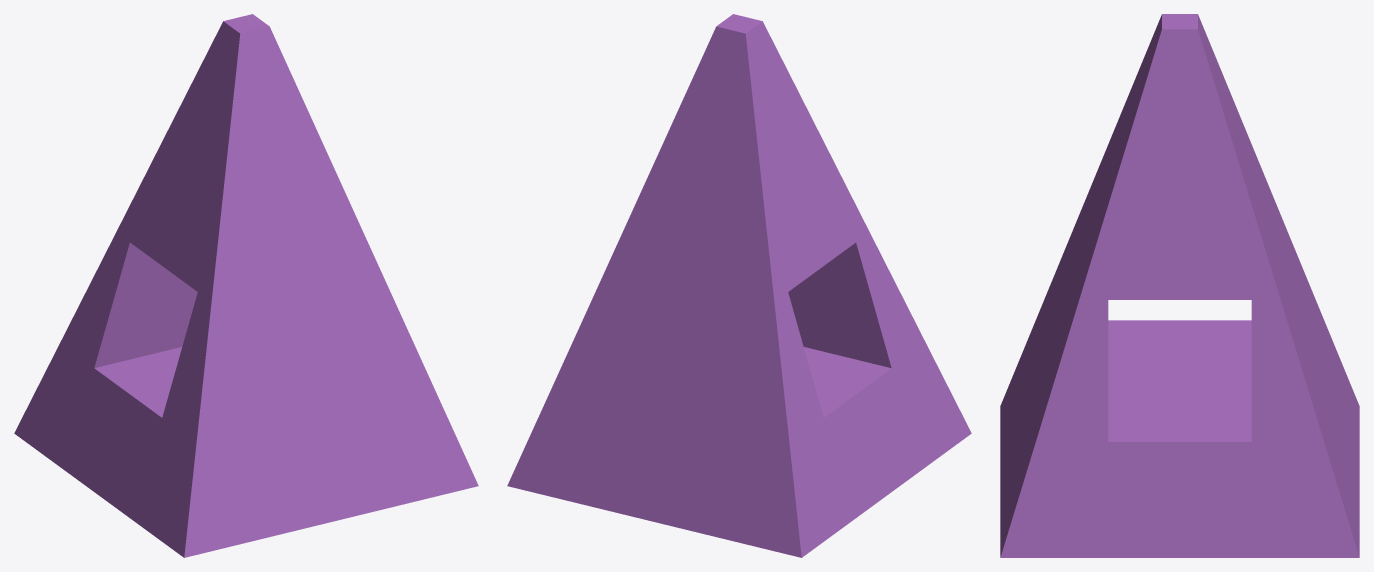
The model's file is var_14.glb.
The picture shows the model from 3 angles, left to right: view 1: azimuth 30°, elevation 25°; view 2: azimuth 150°, elevation 25°; view 3: azimuth 270°, elevation 25°; orthographic projection. The views are drawn at different scales.
Visible parts, largest first — view 1: Cylinder; view 2: Cylinder; view 3: Cylinder.
Part boxes in pixels (box(x1,y1,x2,y2)): Cylinder: box(14, 14, 478, 557); Cylinder: box(507, 14, 971, 557); Cylinder: box(1000, 14, 1359, 557).
Bounding box in the file's own units: 1.41 × 2 × 1.41.
